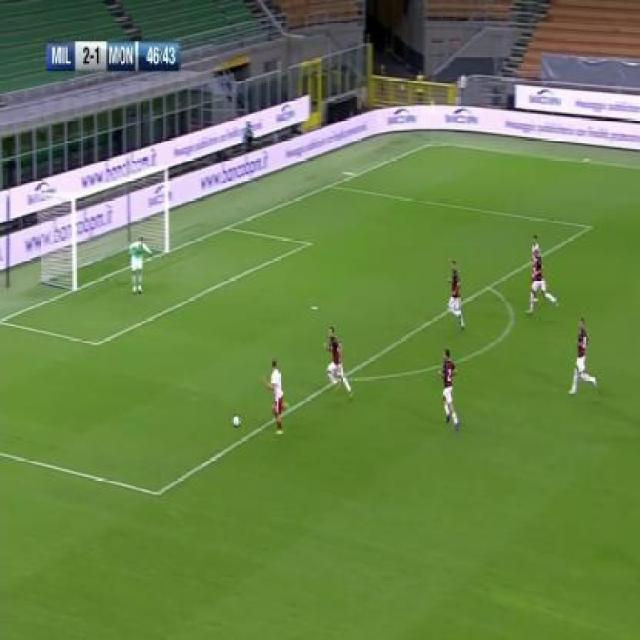ball: (232, 411, 241, 428)
player: (567, 319, 598, 398), (322, 323, 353, 399), (438, 346, 463, 431), (526, 248, 557, 313), (262, 356, 287, 435), (445, 256, 467, 332), (129, 234, 152, 296), (528, 233, 541, 256)
